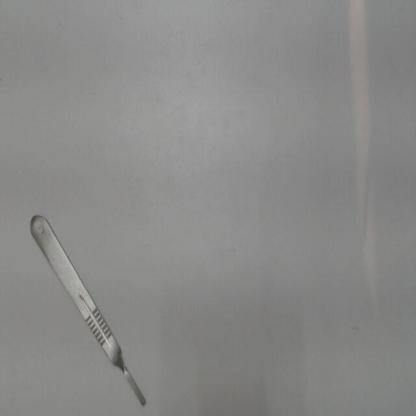No.4 BP Handle: (23, 196, 155, 412)
